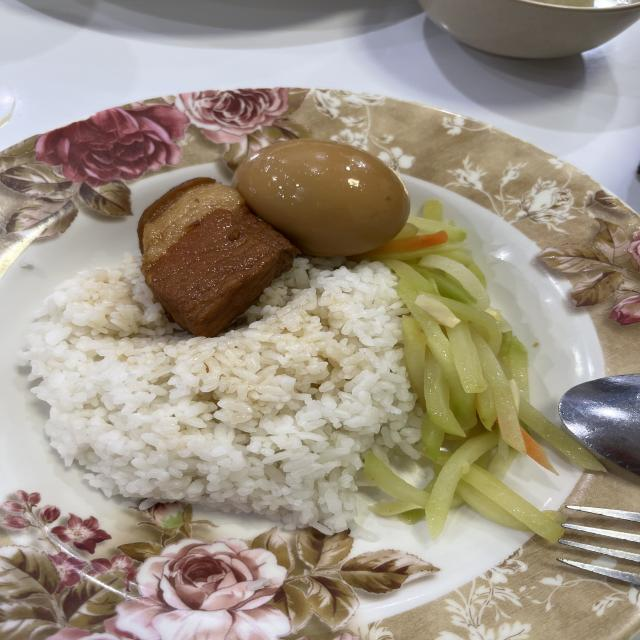com: (22, 255, 420, 532)
kho trung: (138, 139, 410, 337)
rau: (363, 200, 604, 543)
